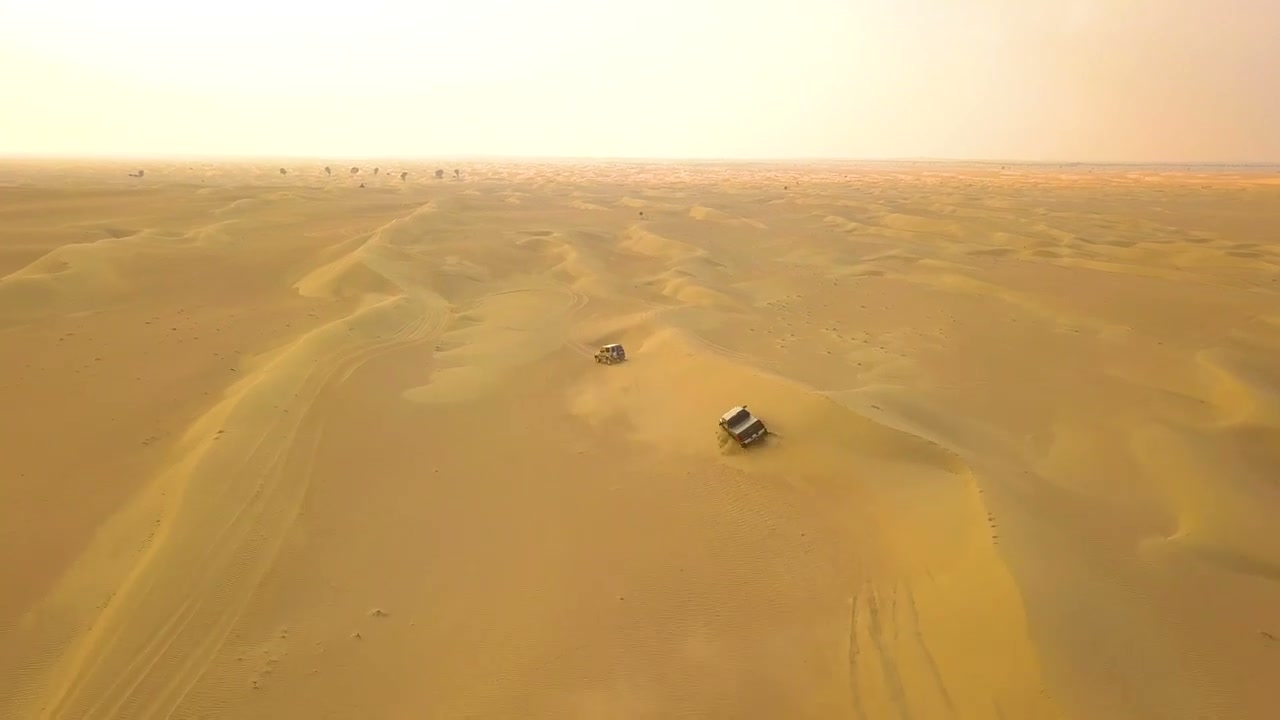vehicle_track: (66, 307, 400, 719), (780, 475, 975, 719)
